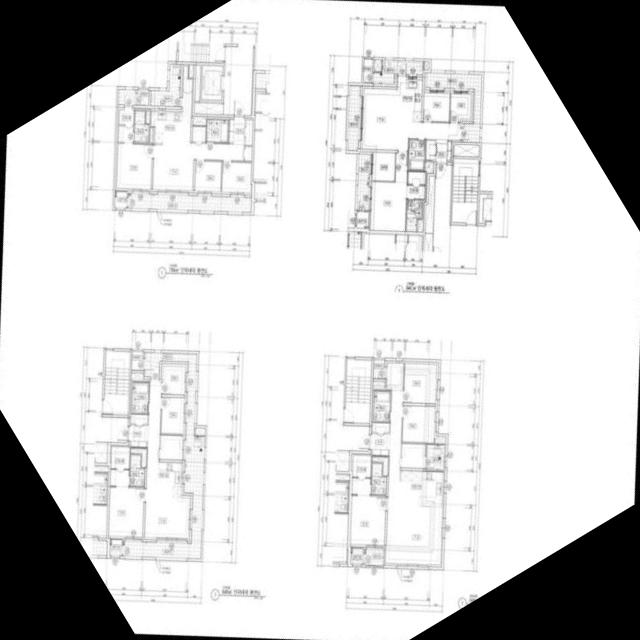background: (0, 0, 640, 640)
space_balconi: (122, 352, 204, 559), (425, 73, 481, 142), (127, 194, 251, 212), (150, 64, 180, 107), (373, 60, 423, 84), (347, 85, 360, 151), (357, 154, 369, 211), (425, 444, 444, 470), (363, 548, 383, 565)
space_bedroom: (370, 153, 407, 231), (108, 487, 144, 537), (349, 496, 385, 545), (116, 143, 152, 189), (403, 363, 436, 404), (402, 406, 435, 443), (221, 162, 251, 193), (160, 397, 184, 434), (194, 161, 221, 191), (422, 93, 449, 122), (162, 366, 185, 395), (449, 94, 470, 122)
space_dressroom: (351, 455, 371, 495), (110, 447, 129, 486), (118, 107, 133, 142), (407, 172, 425, 199)
space_elevator: (201, 65, 223, 100)
space_elevator_hall: (223, 46, 252, 115)
space_front: (228, 116, 245, 145), (128, 425, 148, 448), (369, 434, 389, 456), (435, 139, 451, 160)
space_kitchen: (150, 66, 192, 143), (398, 471, 443, 507), (396, 76, 422, 122), (157, 462, 181, 498)
space_living_room: (385, 363, 442, 565), (144, 381, 189, 538), (361, 88, 460, 150), (152, 142, 244, 190)
space_multipurpose_space: (372, 152, 395, 181)
space_other: (401, 443, 425, 469), (159, 435, 182, 460), (424, 176, 434, 233), (117, 89, 148, 106), (194, 102, 223, 114), (454, 144, 479, 157), (130, 449, 146, 467), (372, 457, 387, 475), (373, 360, 385, 379), (131, 352, 143, 370), (194, 65, 200, 101), (363, 59, 372, 83), (192, 127, 205, 142), (372, 422, 389, 433), (425, 140, 434, 160), (245, 120, 252, 145), (130, 414, 147, 424), (244, 147, 251, 161), (192, 118, 205, 125), (424, 161, 432, 172), (372, 381, 384, 388), (374, 60, 381, 71), (131, 373, 143, 379), (195, 428, 204, 435), (417, 220, 422, 232), (435, 438, 444, 444), (188, 66, 192, 78), (145, 111, 149, 123), (149, 128, 152, 143), (423, 62, 428, 70)
space_outdoor_room: (350, 548, 363, 564), (356, 212, 368, 228), (109, 540, 121, 556)
space_staircase: (344, 359, 371, 424), (103, 351, 130, 415), (451, 159, 478, 223)
space_toilet: (131, 382, 148, 413), (373, 391, 390, 422), (408, 140, 425, 171), (133, 111, 149, 143), (206, 119, 228, 142), (371, 463, 386, 495), (129, 455, 144, 487), (406, 200, 421, 232)
